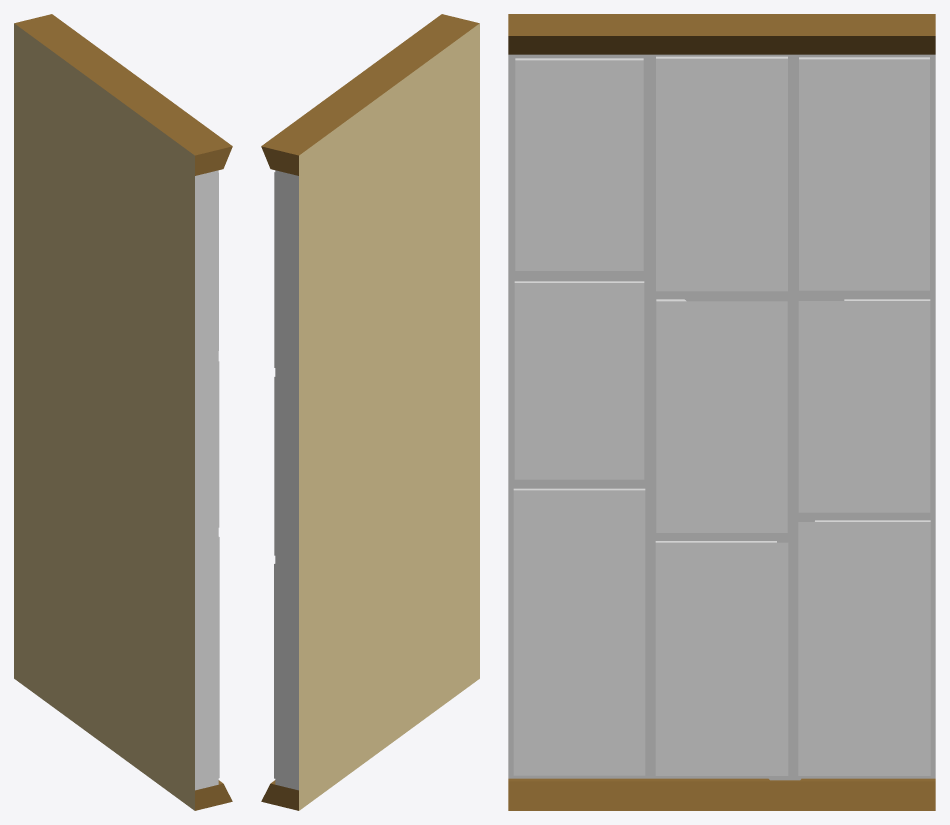
File: Duvar_2.fbx
3 renders of one model, left to right at view 1: azimuth 30°, elevation 25°; view 2: azimuth 150°, elevation 25°; view 3: azimuth 270°, elevation 25°, orthographic. The views are drawn at different scales.
Parts seen in each view (by area): view 1: Cube.002; view 2: Cube.002; view 3: Cube.002, Plane.002.
Boxes of the visible parts, bbox=[...] form: Cube.002: bbox=[14, 14, 232, 810]; Cube.002: bbox=[261, 14, 479, 810]; Cube.002: bbox=[508, 14, 935, 810]; Plane.002: bbox=[643, 182, 844, 780].
Size of the model in its own units: 24.25 by 400 by 200.
